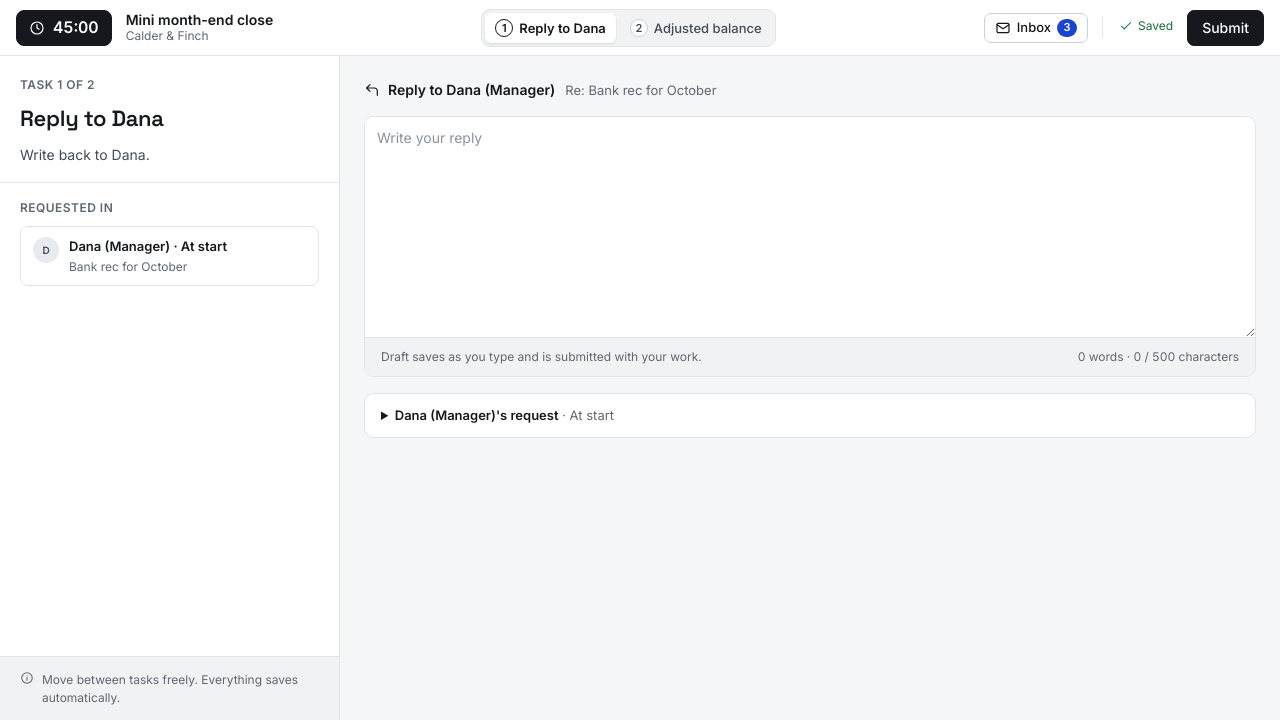
Test: Workspace layout › counts unread messages on the Inbox button and lists them in the drawer
Click the button "Inbox 3" at (1036,28), box [984,12,1088,42]
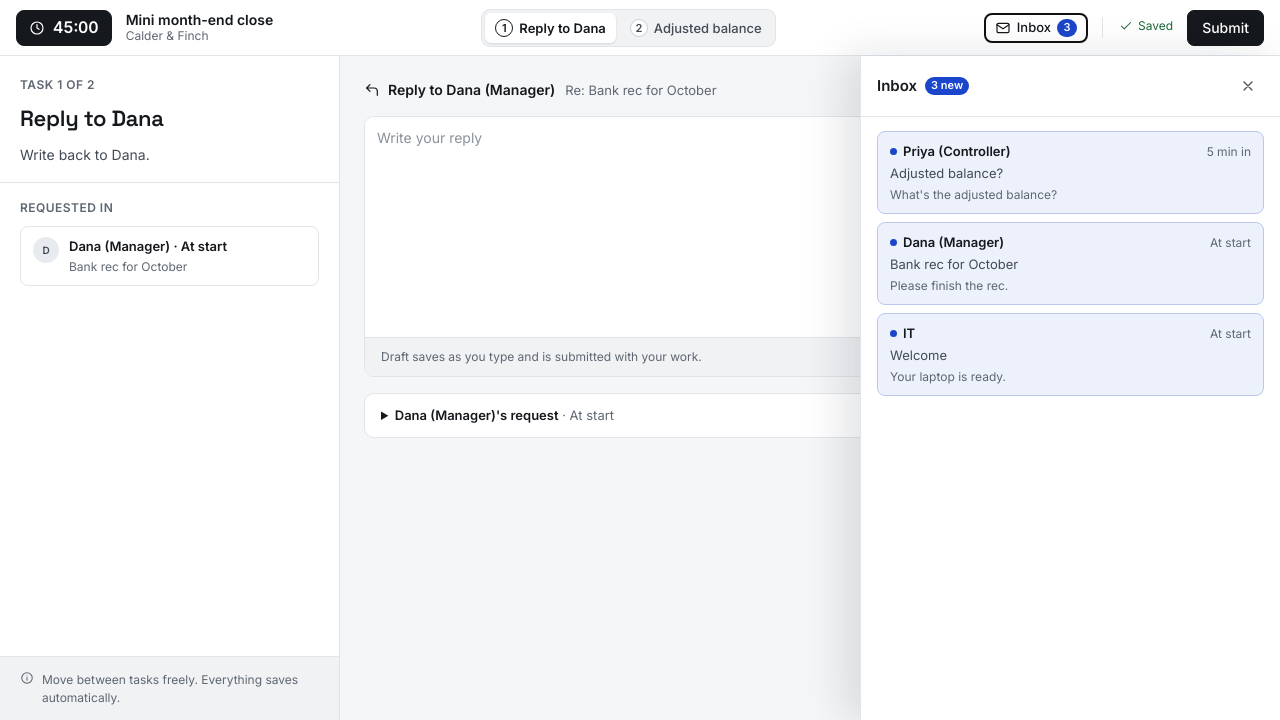
Expected: the button that starts with "Priya (Controller)" is shown, [877,131,1264,214]
Expected: the button that starts with "Priya (Controller)" shows "Adjusted balance?", [877,131,1264,214]
Expected: the button that starts with "Priya (Controller)" shows "5 min in", [877,131,1264,214]
